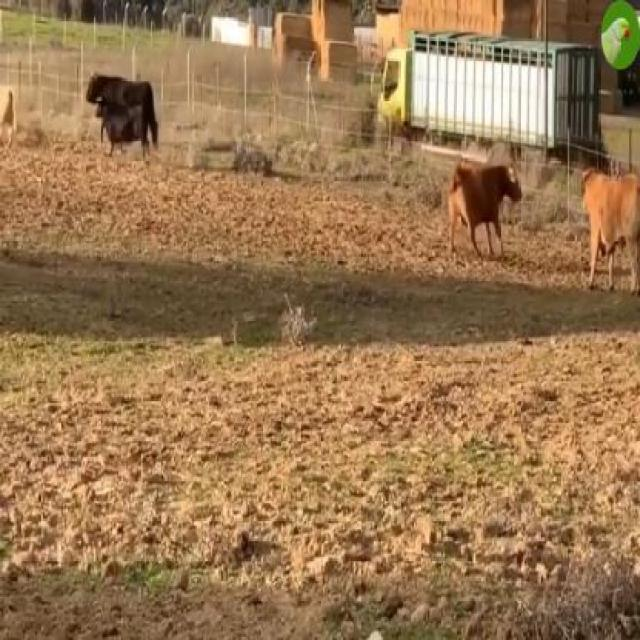Cow: (449, 162, 522, 262), (580, 168, 638, 292), (84, 72, 158, 150), (96, 96, 150, 162)
